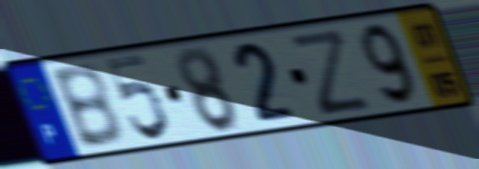2: (233, 38, 305, 128)
5: (102, 51, 172, 145)
8: (172, 43, 243, 136)
9: (354, 19, 421, 109)
B: (47, 60, 126, 152)
Z: (286, 25, 375, 119)
